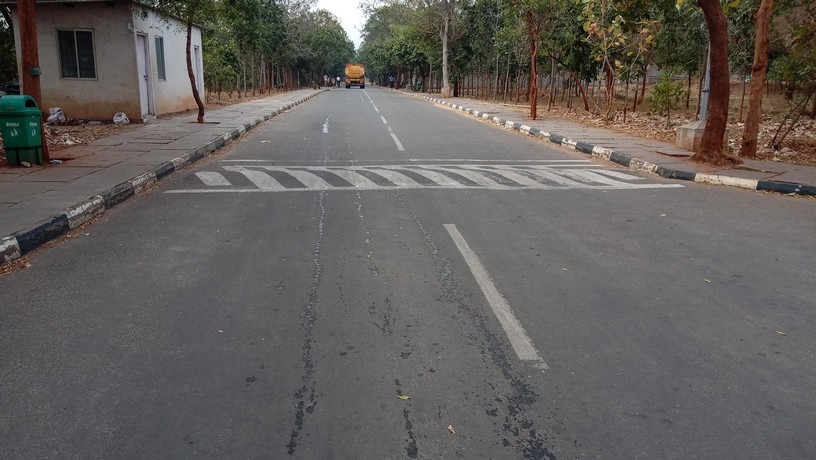bump: (158, 157, 687, 191)
